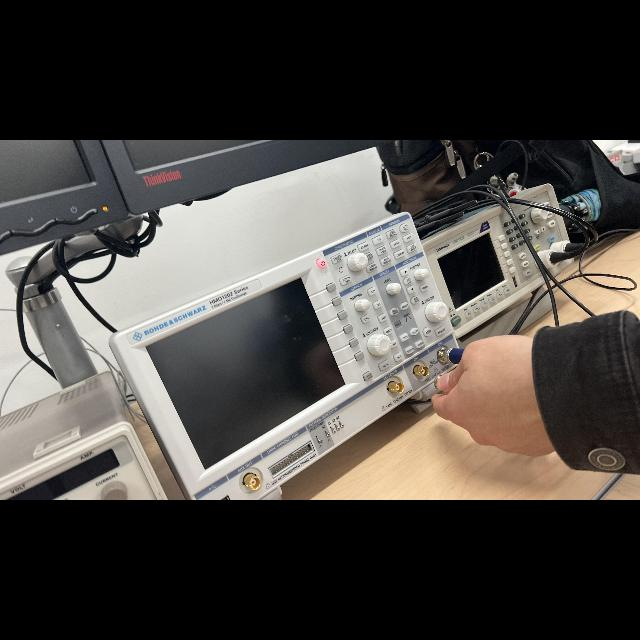Digital-Oscilloscope: (110, 213, 457, 499)
